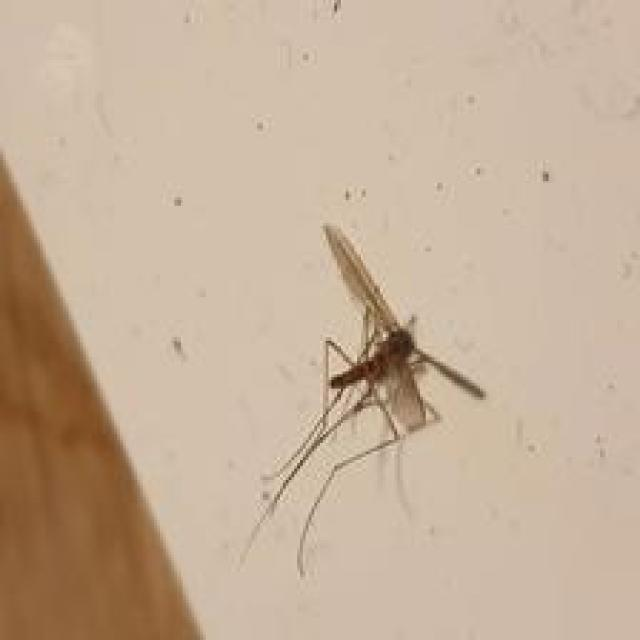Culex: (237, 222, 486, 578)
